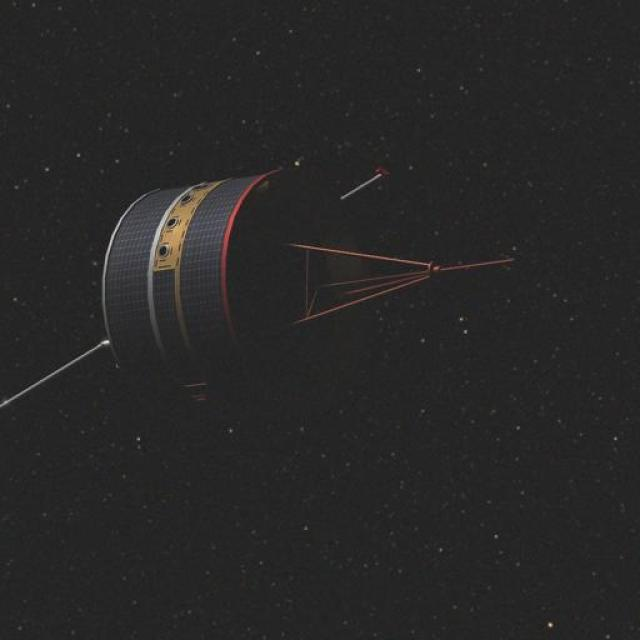double_start: (81, 133, 467, 436)
